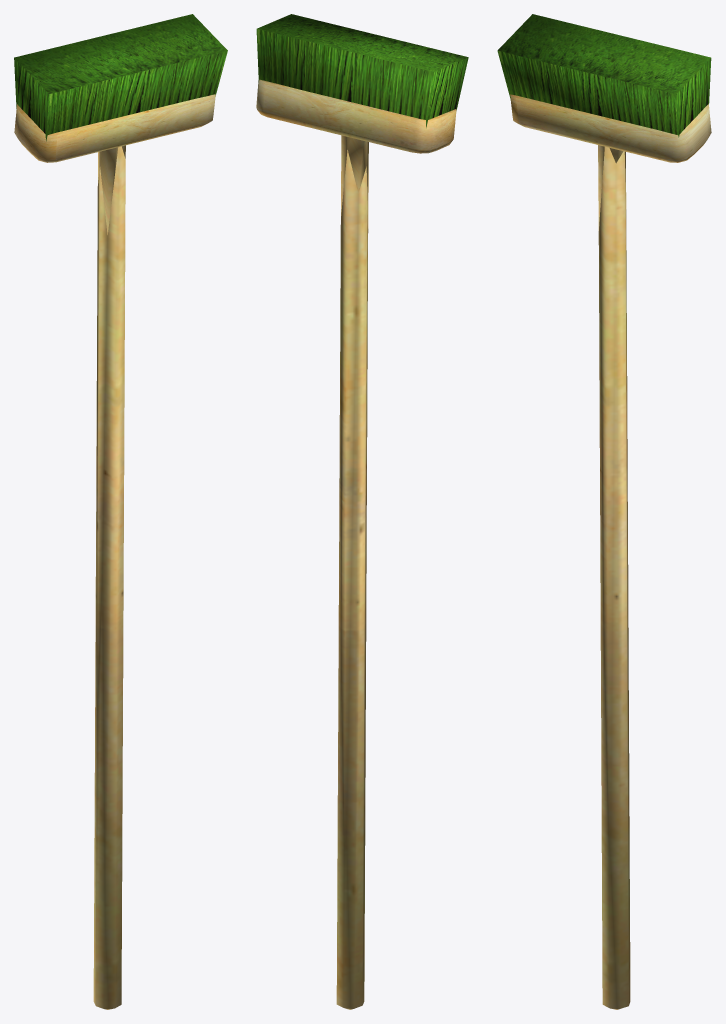
Rendered from JoshuaPFingerle-workshopbroom.glb.
3 views of the same model, side by side, from view 1: azimuth 30°, elevation 25°; view 2: azimuth 150°, elevation 25°; view 3: azimuth 330°, elevation 25° (orthographic).
Visible parts, largest first — view 1: Mesh_0705.rip_Tex_014; view 2: Mesh_0705.rip_Tex_014; view 3: Mesh_0705.rip_Tex_014.
Part boxes in pixels (left/top/right/bottom): Mesh_0705.rip_Tex_014: left=14, top=14, right=227, bottom=1009; Mesh_0705.rip_Tex_014: left=256, top=14, right=468, bottom=1009; Mesh_0705.rip_Tex_014: left=497, top=14, right=711, bottom=1009.
Bounding box in the file's own units: 1.79 × 9.28 × 0.732.
Materials: 2 (2 with a texture image).
